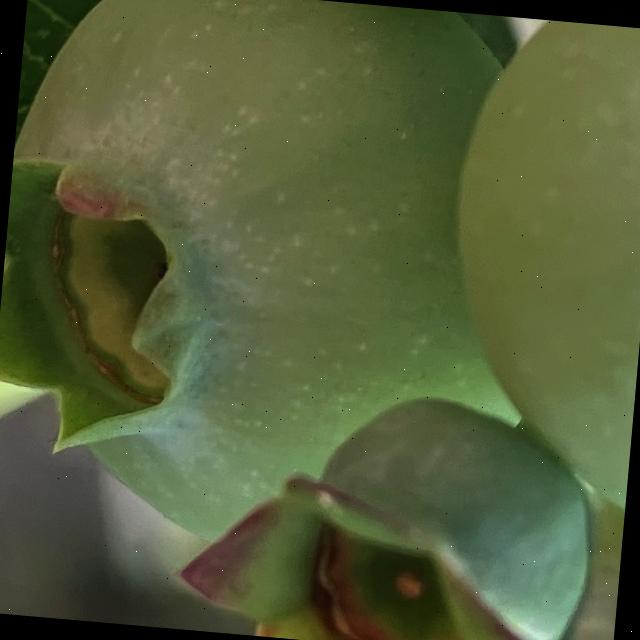Blueberries: (426, 12, 640, 537)
